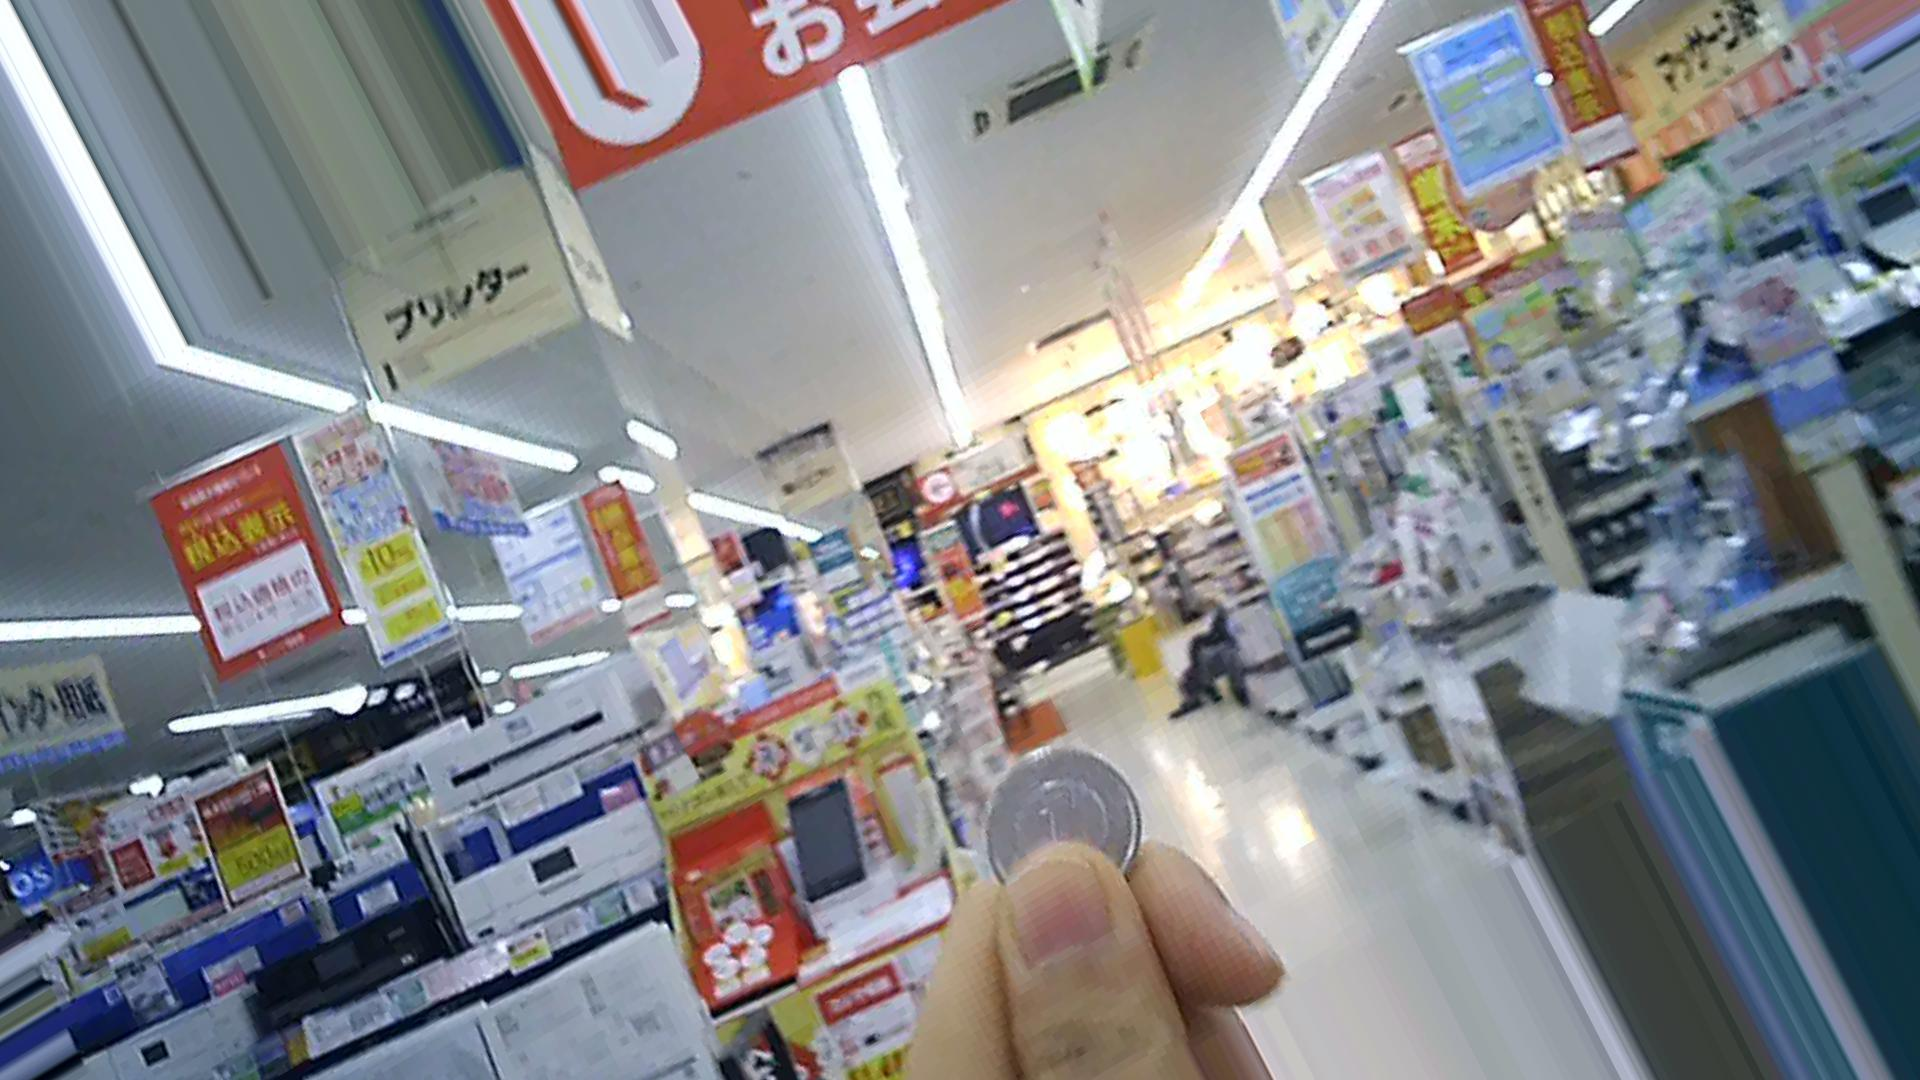1 Yen: (971, 752, 1164, 913)
